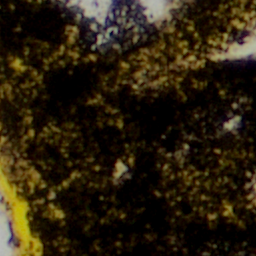cement_matrix: (0, 0, 255, 255), (180, 56, 199, 65), (225, 118, 237, 130), (115, 163, 125, 176), (29, 172, 37, 182), (14, 61, 21, 68), (53, 210, 58, 214)
cracks: (0, 131, 41, 255)
gravel_crushed_stones: (57, 0, 115, 43), (209, 14, 255, 60), (131, 0, 187, 24), (0, 188, 16, 255), (181, 57, 198, 64), (226, 119, 236, 129), (251, 178, 255, 202), (116, 164, 124, 175), (30, 173, 36, 181), (15, 62, 20, 67), (54, 211, 57, 213)
